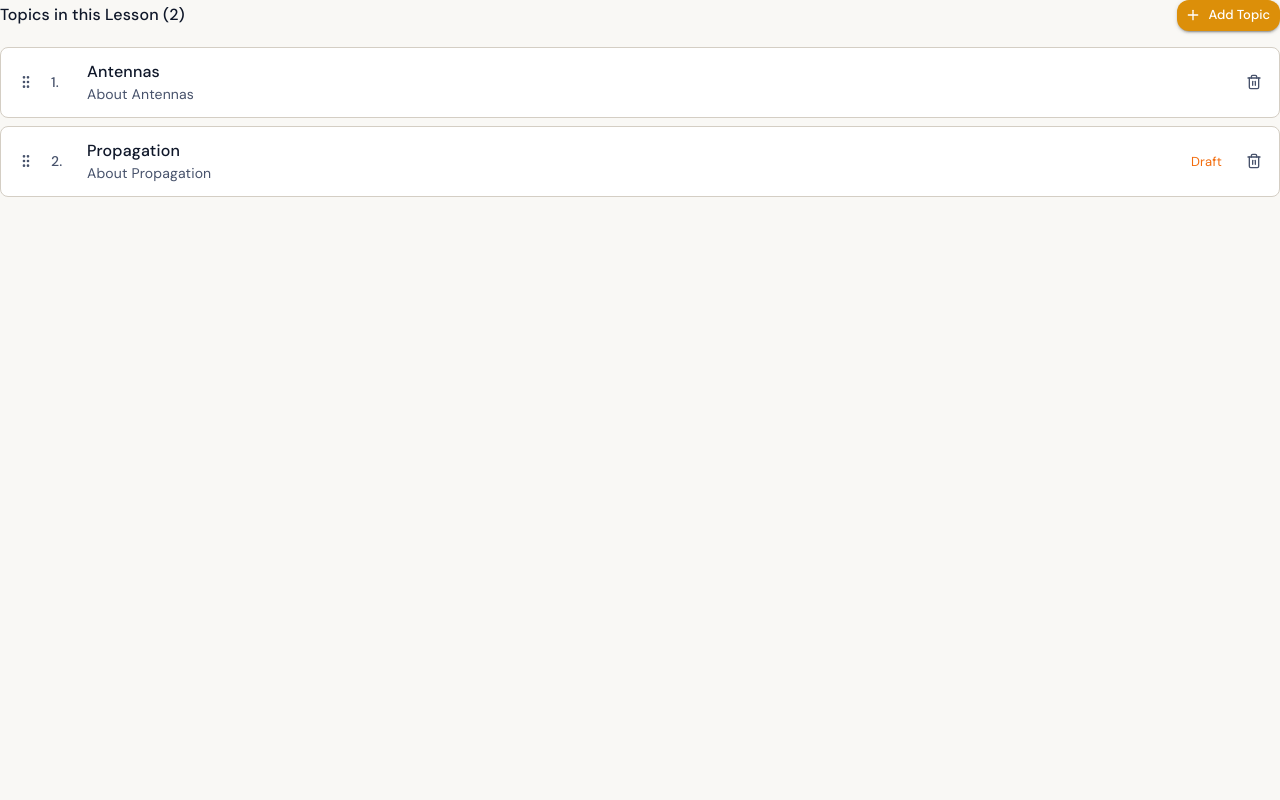
it: LessonTopicManager › adding › offers only topics not already in the lesson
This screenshot has width=1280, height=800.
Click the button "Add Topic" at (1228, 15), box x1=1176 y1=0 x2=1279 y2=31
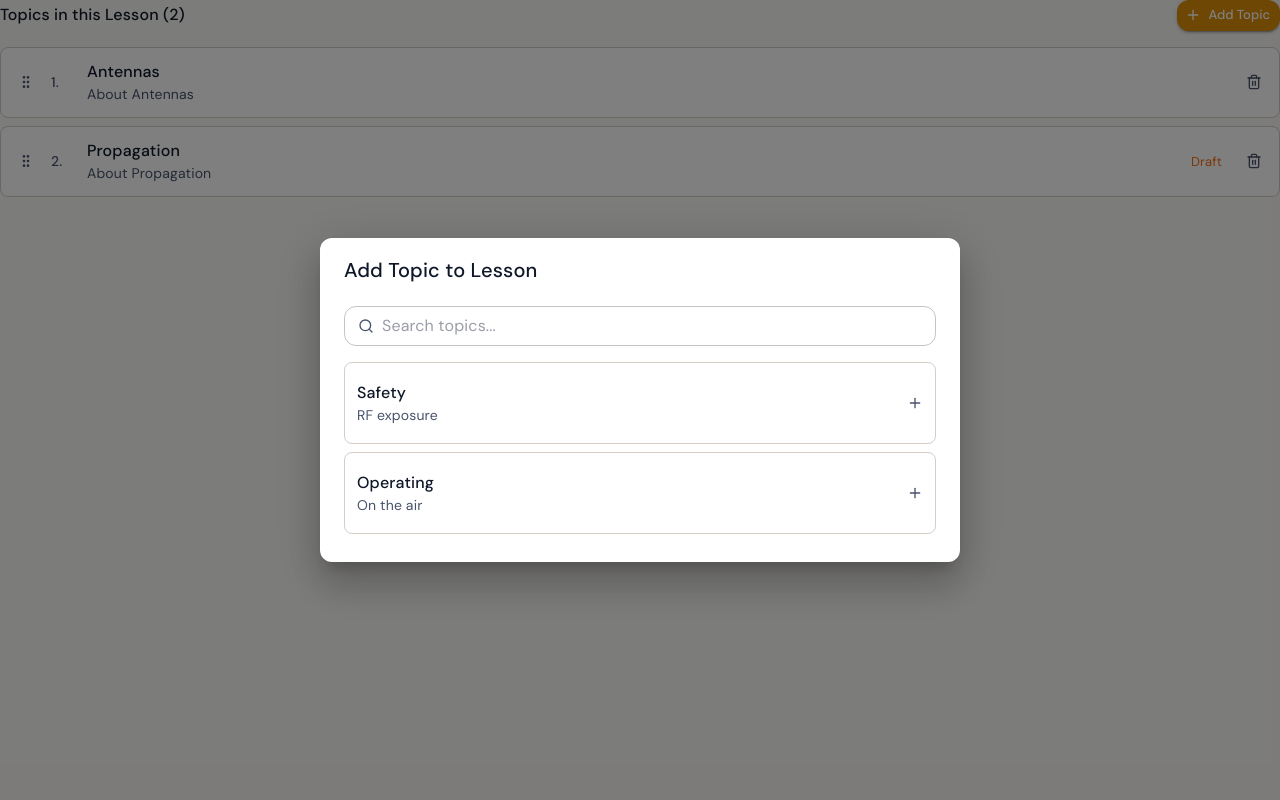
Now the buttons read "SafetyRF exposure", "OperatingOn the air", in this order, box x1=344 y1=362 x2=936 y2=444; x1=344 y1=452 x2=936 y2=534
